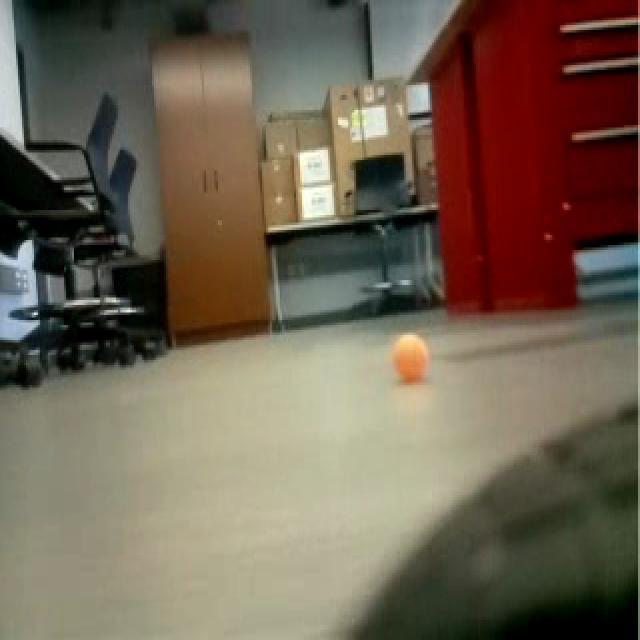ping-pong-ball: (384, 323, 436, 393)
